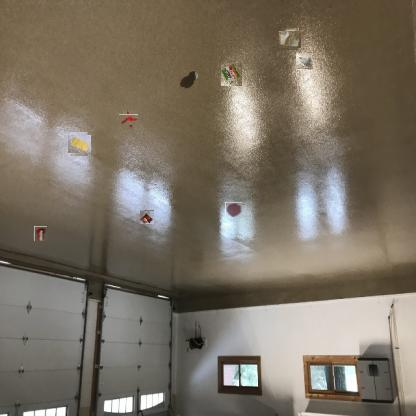dirty: (221, 63, 244, 88), (68, 134, 90, 154), (280, 29, 300, 49), (296, 53, 312, 69), (121, 112, 136, 128), (33, 226, 48, 240), (140, 210, 154, 224)
liquid: (178, 70, 198, 90), (225, 202, 242, 217)
